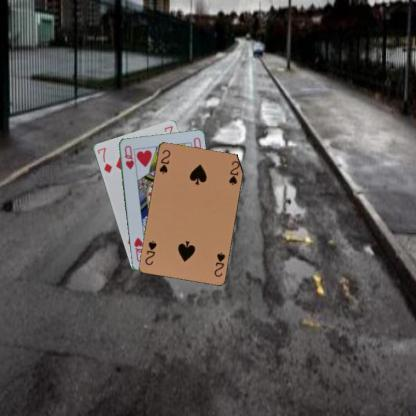2s: (156, 146, 172, 174), (211, 249, 226, 278)
7d: (94, 145, 113, 174)
Qh: (122, 142, 136, 170)
